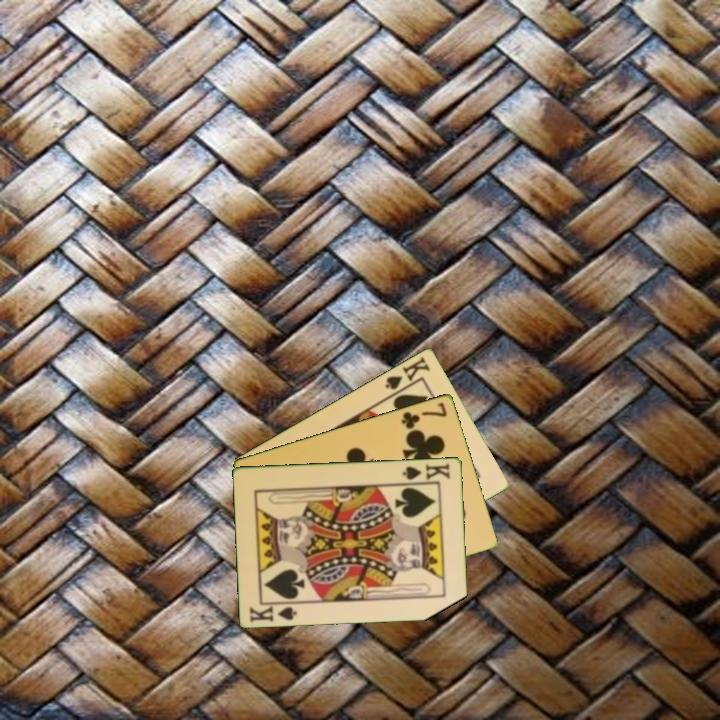7c: (398, 398, 450, 432)
Ks: (381, 352, 433, 392), (246, 599, 301, 625), (399, 460, 453, 485)
